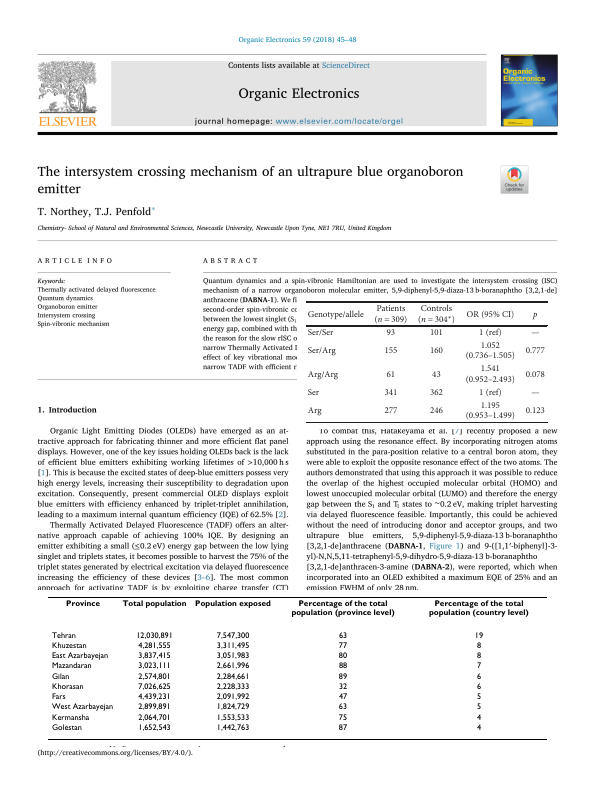borderless: (47, 595, 547, 739), (306, 300, 548, 423)
cell: (290, 600, 395, 618), (428, 600, 529, 618), (464, 341, 515, 362), (464, 364, 515, 385), (464, 401, 515, 422), (417, 304, 456, 325), (373, 304, 408, 325), (194, 600, 271, 609), (306, 309, 364, 320), (121, 600, 187, 609), (50, 703, 114, 712), (465, 309, 515, 320), (50, 652, 109, 661), (50, 713, 90, 723), (135, 631, 173, 641), (50, 662, 92, 671), (50, 641, 87, 651), (306, 369, 339, 380), (215, 631, 250, 641), (215, 641, 250, 651), (215, 672, 250, 682), (215, 682, 250, 692), (215, 713, 250, 723), (215, 723, 250, 733), (137, 641, 171, 651), (137, 672, 171, 682), (50, 682, 84, 692), (137, 682, 171, 692), (137, 713, 171, 723), (137, 723, 171, 733), (50, 723, 82, 733), (65, 600, 100, 609), (215, 652, 250, 661), (215, 662, 250, 671), (215, 693, 250, 702), (215, 703, 250, 712), (137, 652, 171, 661), (137, 662, 171, 671), (137, 693, 171, 702), (137, 703, 171, 712), (306, 346, 336, 356), (306, 328, 334, 338), (50, 631, 76, 641), (478, 328, 502, 338), (478, 388, 502, 398), (524, 369, 545, 380), (524, 406, 545, 417), (524, 346, 545, 356), (50, 672, 70, 682), (306, 406, 322, 417), (383, 406, 398, 417), (429, 406, 444, 417), (429, 328, 444, 338), (383, 346, 398, 356), (429, 346, 444, 356), (383, 388, 398, 398), (429, 388, 444, 398), (50, 693, 66, 702), (306, 388, 320, 398), (385, 369, 396, 380), (337, 631, 348, 641), (473, 631, 484, 641), (337, 641, 348, 651), (337, 672, 348, 682), (337, 682, 348, 692), (337, 713, 348, 723), (337, 723, 348, 733), (385, 328, 396, 338), (431, 369, 441, 380), (337, 652, 348, 661), (337, 662, 348, 671), (337, 693, 348, 702), (337, 703, 348, 712), (475, 682, 482, 692), (475, 723, 482, 733), (475, 652, 482, 661), (475, 662, 482, 671), (475, 693, 482, 702), (475, 703, 482, 712), (475, 641, 481, 651), (475, 672, 481, 682), (475, 713, 481, 723), (532, 311, 538, 320), (530, 332, 540, 336), (530, 392, 540, 396)
